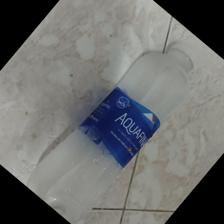Aquafina: (27, 39, 198, 224)
